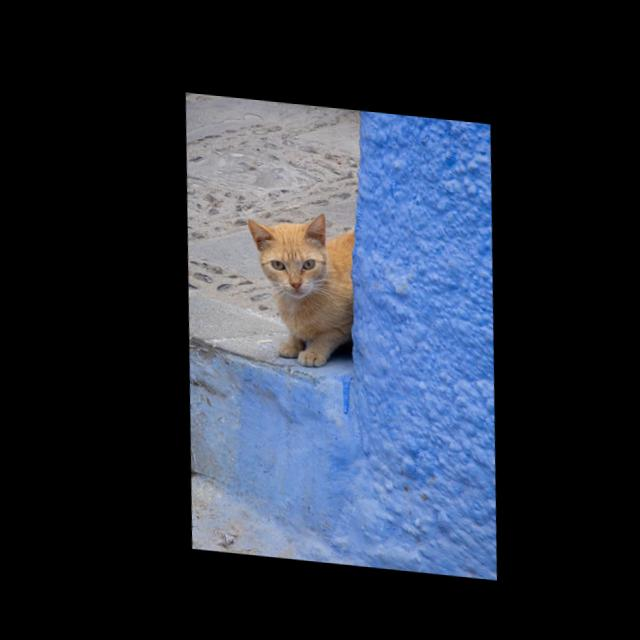animals: (236, 203, 357, 367)
